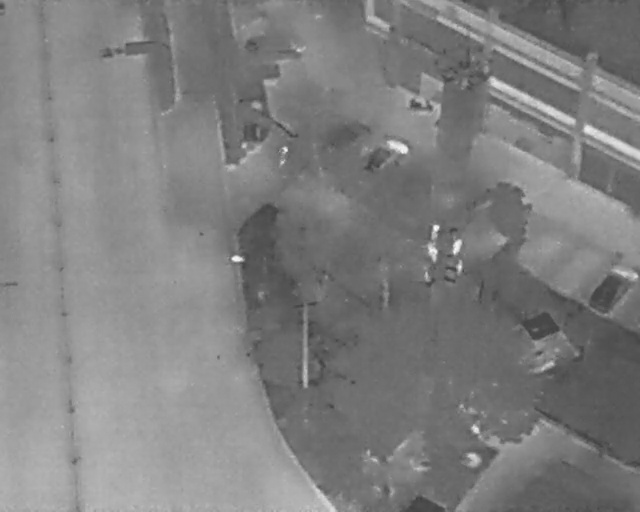Bicycle: (407, 94, 434, 113)
Car: (583, 258, 638, 321), (359, 129, 414, 186)
Person: (277, 145, 291, 169)
